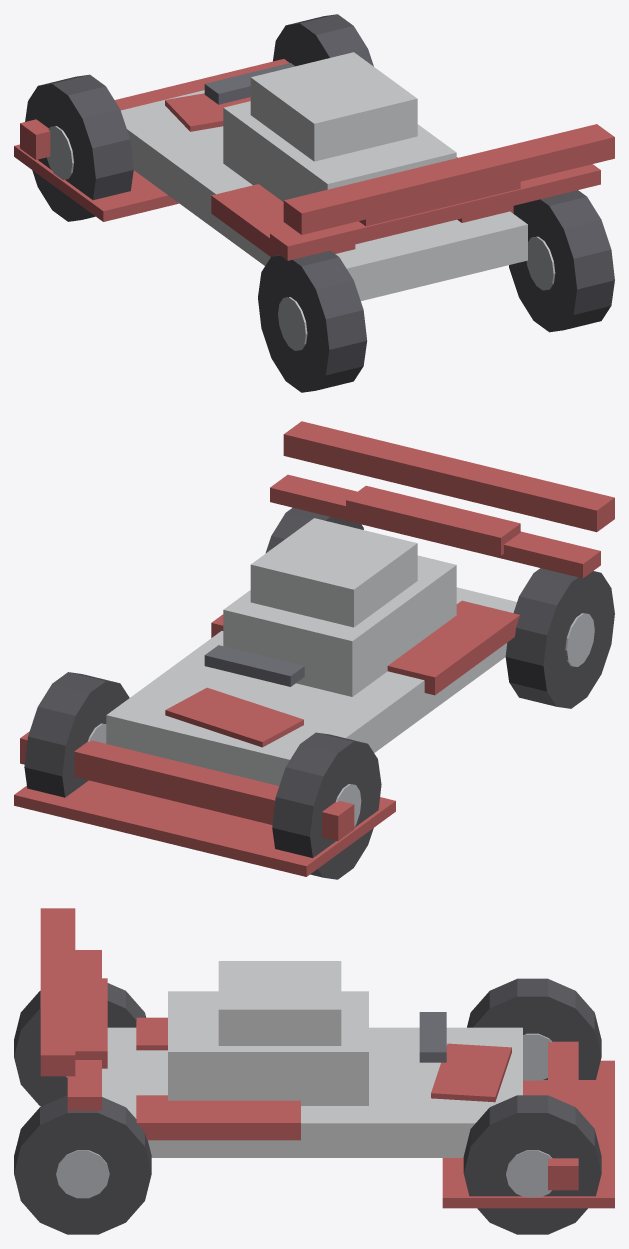
The model's file is race_car.glb.
3 renders of one model, top to bottom at view 1: azimuth 30°, elevation 25°; view 2: azimuth 150°, elevation 25°; view 3: azimuth 270°, elevation 25°, orthographic. The views are drawn at different scales.
Parts seen in each view (by area): view 1: g13, g11, g6, g19, g21, g12, g15, g5, g17, g3, g9, g8 (+6 smaller); view 2: g13, g12, g11, g6, g9, g19, g15, g8, g17, g7, g3, g5 (+4 smaller); view 3: g13, g12, g21, g17, g11, g4, g15, g9, g6, g19, g10, g8 (+7 smaller).
Boxes of the visible parts, x1,y1,x2,y2 form: g13: [121, 90, 527, 300]; g11: [250, 52, 417, 161]; g6: [283, 124, 614, 234]; g19: [258, 250, 367, 392]; g21: [509, 190, 614, 332]; g12: [223, 101, 456, 201]; g15: [25, 74, 133, 221]; g5: [270, 164, 600, 260]; g17: [273, 14, 373, 66]; g3: [211, 184, 355, 256]; g9: [14, 144, 178, 221]; g8: [20, 59, 289, 159]; g13: [106, 587, 516, 785]; g12: [223, 555, 456, 696]; g11: [250, 518, 417, 627]; g6: [283, 421, 614, 532]; g9: [14, 780, 395, 876]; g19: [505, 568, 614, 708]; g15: [272, 732, 381, 879]; g8: [20, 731, 354, 840]; g17: [24, 672, 129, 797]; g7: [346, 485, 520, 555]; g3: [387, 600, 519, 695]; g5: [270, 474, 600, 578]; g13: [102, 1027, 522, 1157]; g12: [168, 991, 368, 1105]; g21: [14, 1095, 151, 1234]; g17: [463, 1095, 601, 1234]; g11: [218, 961, 341, 1045]; g4: [136, 1095, 300, 1140]; g15: [467, 978, 601, 1079]; g9: [442, 1060, 614, 1208]; g6: [40, 908, 75, 1076]; g19: [14, 983, 145, 1106]; g10: [431, 1043, 511, 1102]; g8: [548, 1041, 578, 1190].
Size of the model in its own units: 2.66 by 1.54 by 4.52.
